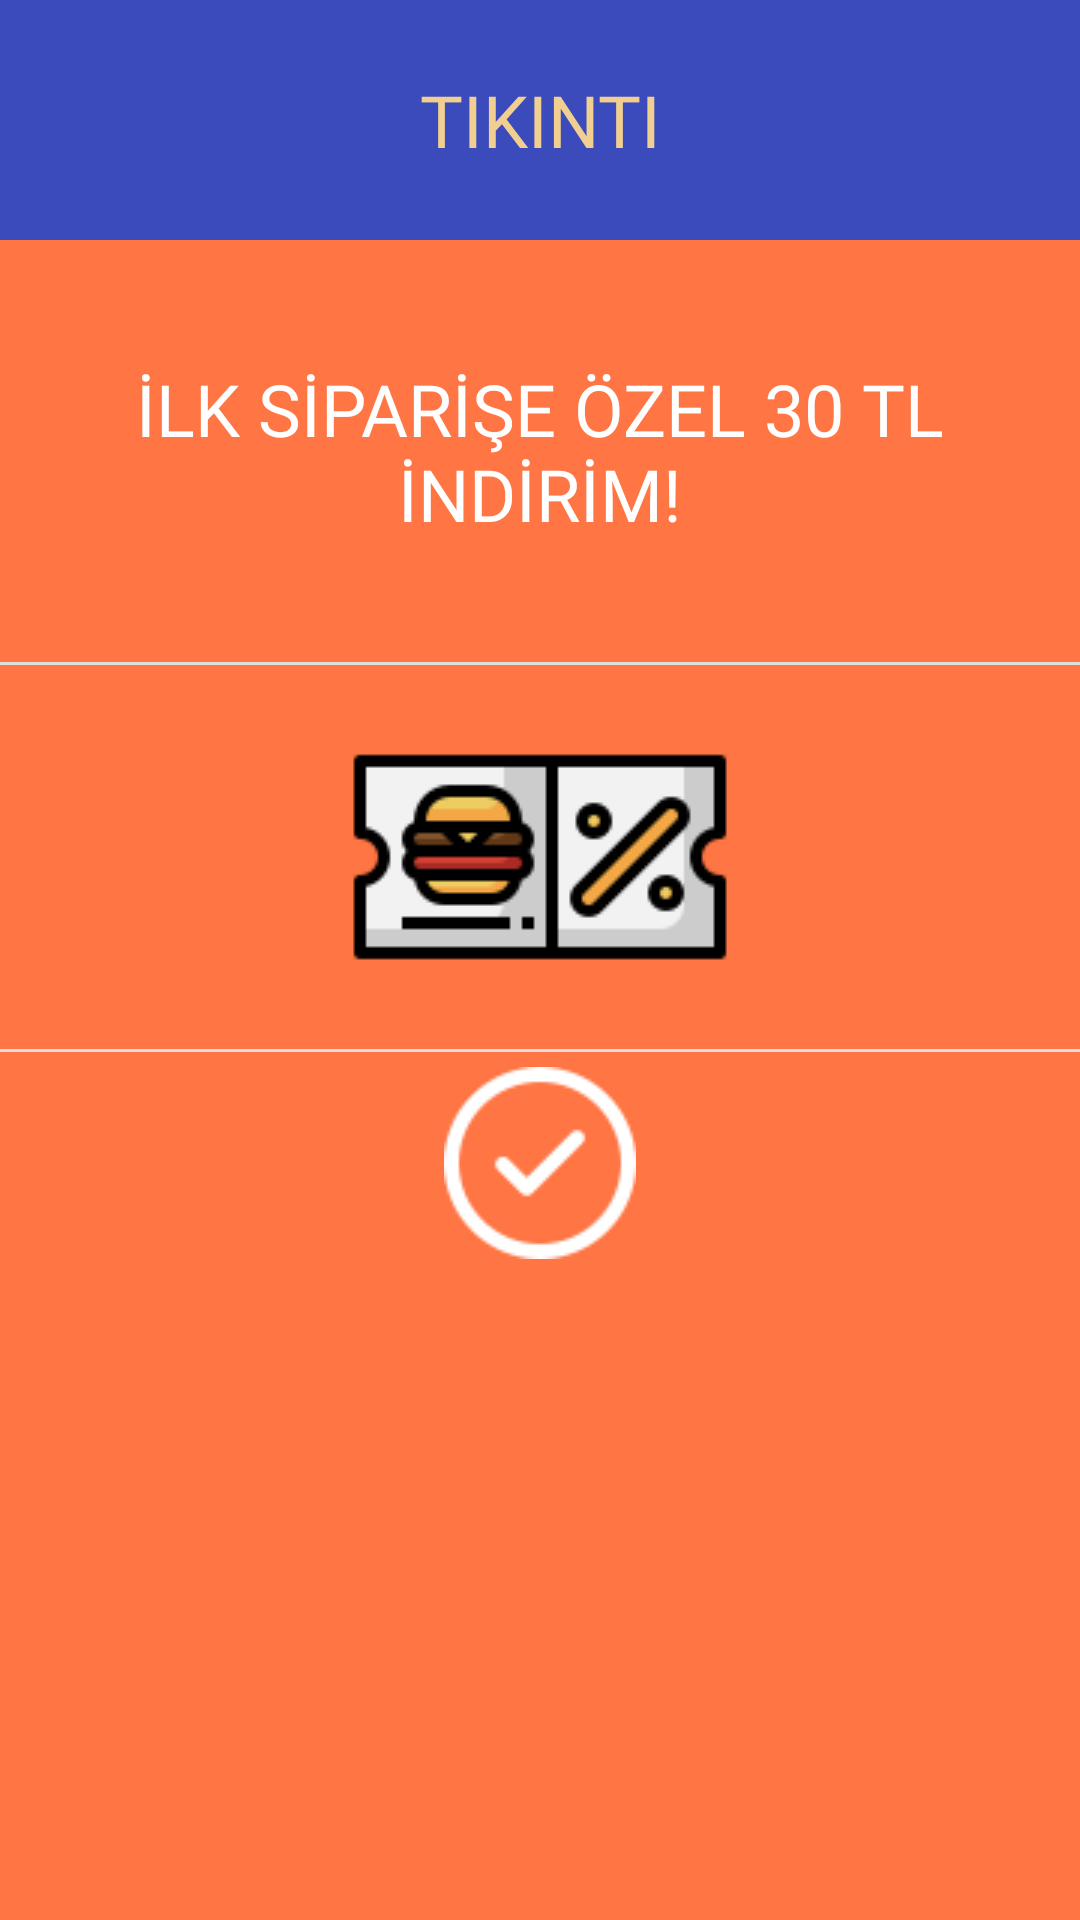

Where to tap for icons on this 1080*1920 app screen, as [x,y]:
checkmark: [540,1163]
